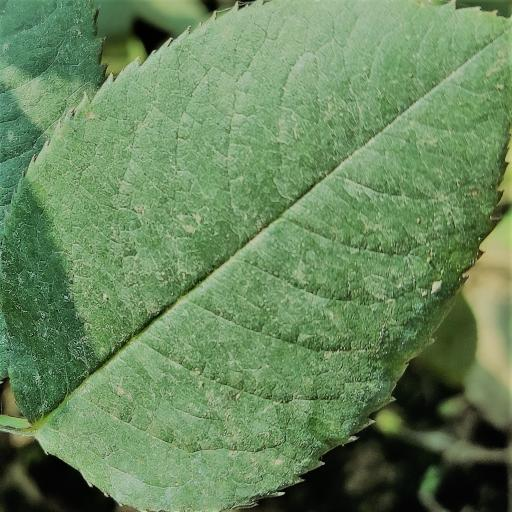healthy_leaf: (3, 0, 512, 512)
